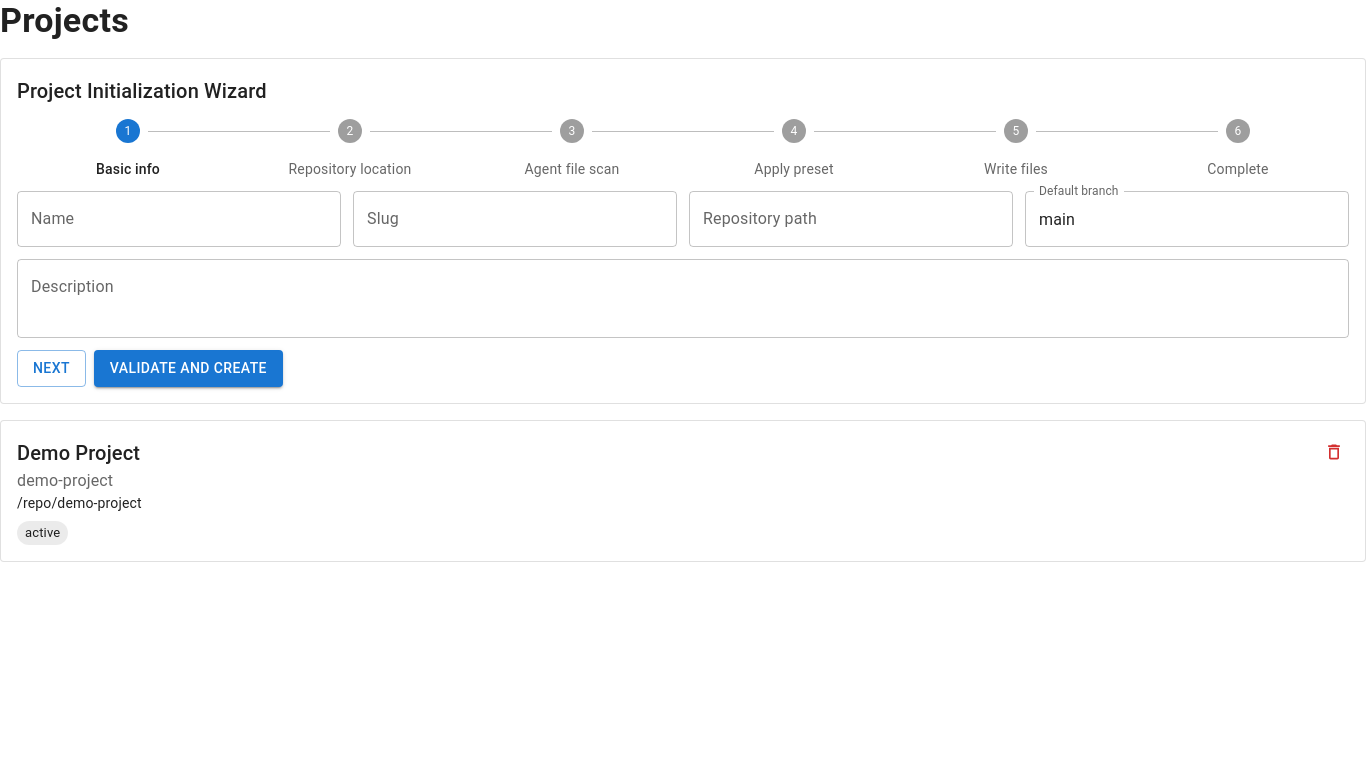
ProjectsPage › deletes a project from the workspace without deleting repository files
This screenshot has width=1366, height=768.
Expected: the heading "Demo Project" is shown, [17, 436, 140, 468]
Click the button named "Delete Demo Project" at (1334, 452), box [1319, 436, 1349, 466]
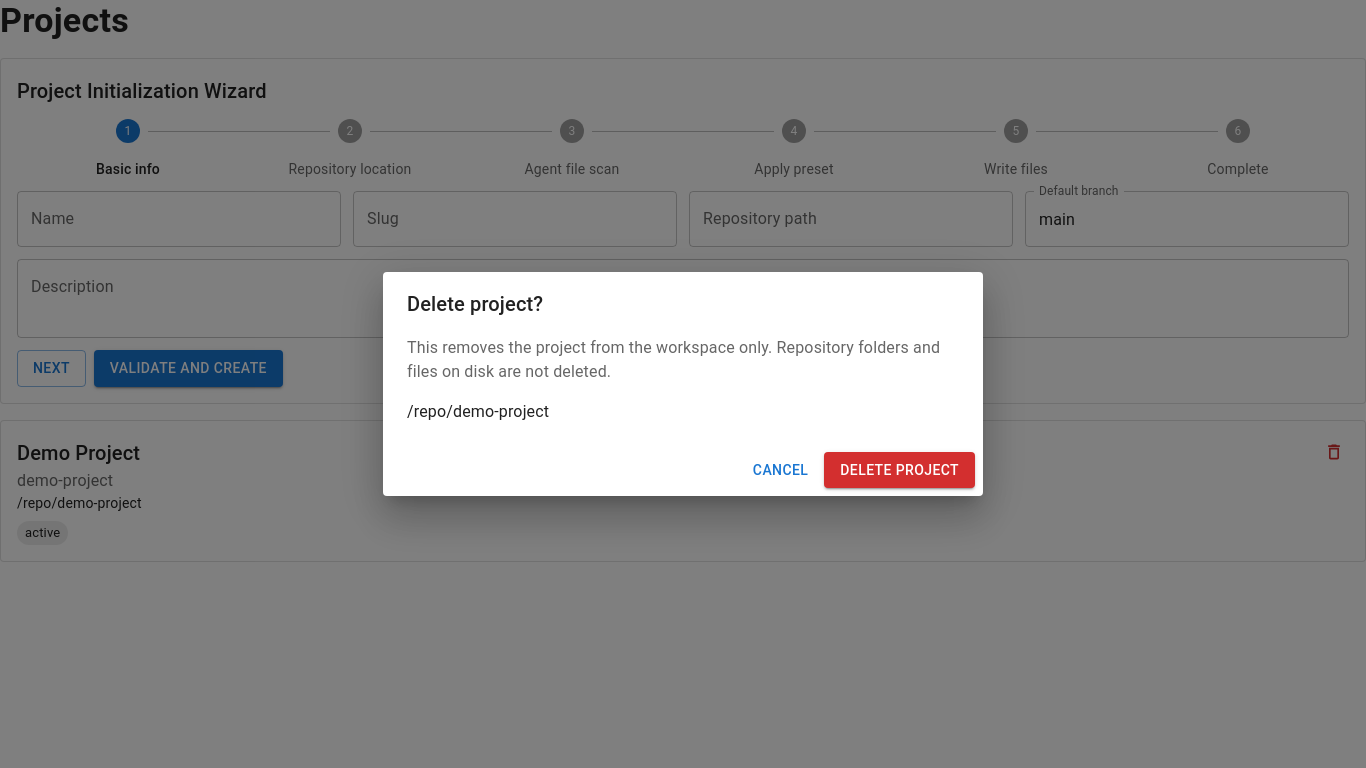
Expected: the heading "Delete project?" is shown, [407, 292, 543, 316]
Expected: the text "This removes the project from the workspace only. Repository folders and files on disk are not deleted." is shown, [407, 338, 940, 381]
Click the button "Delete project" at (900, 470), box [824, 452, 975, 488]
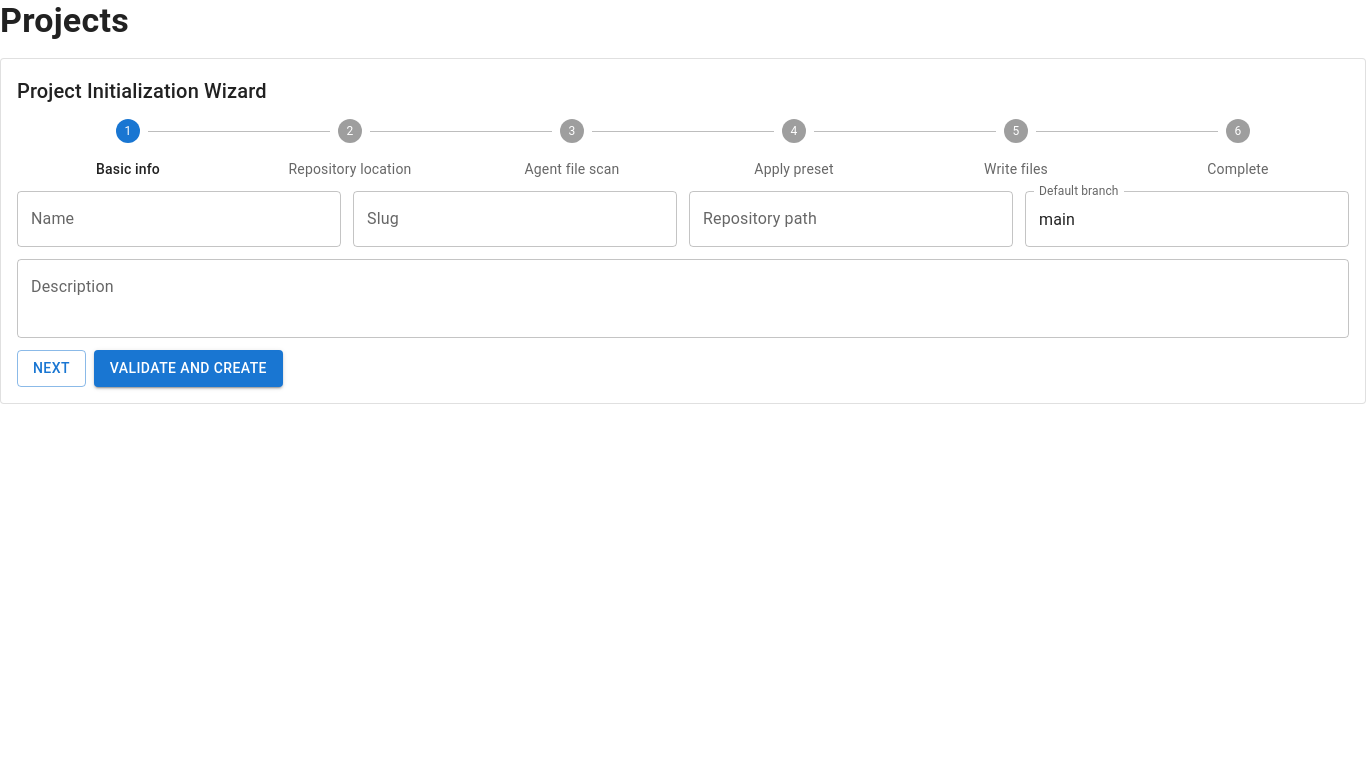
Expected: the heading "Demo Project" is gone
